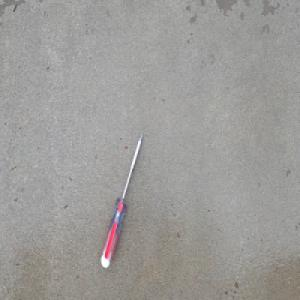Screwdriver: (100, 129, 144, 269)
